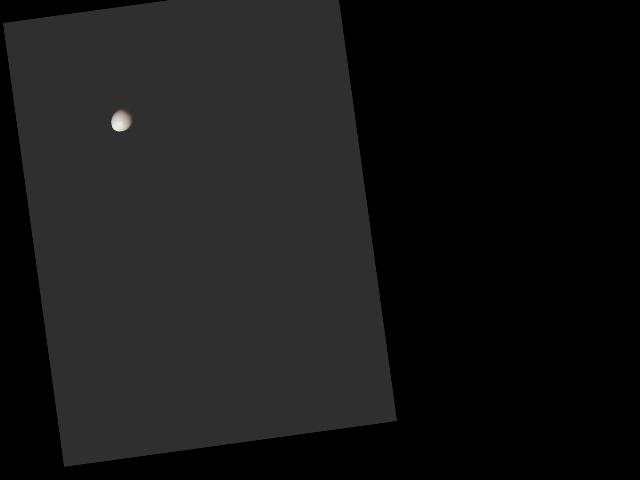egg: (109, 106, 134, 132)
